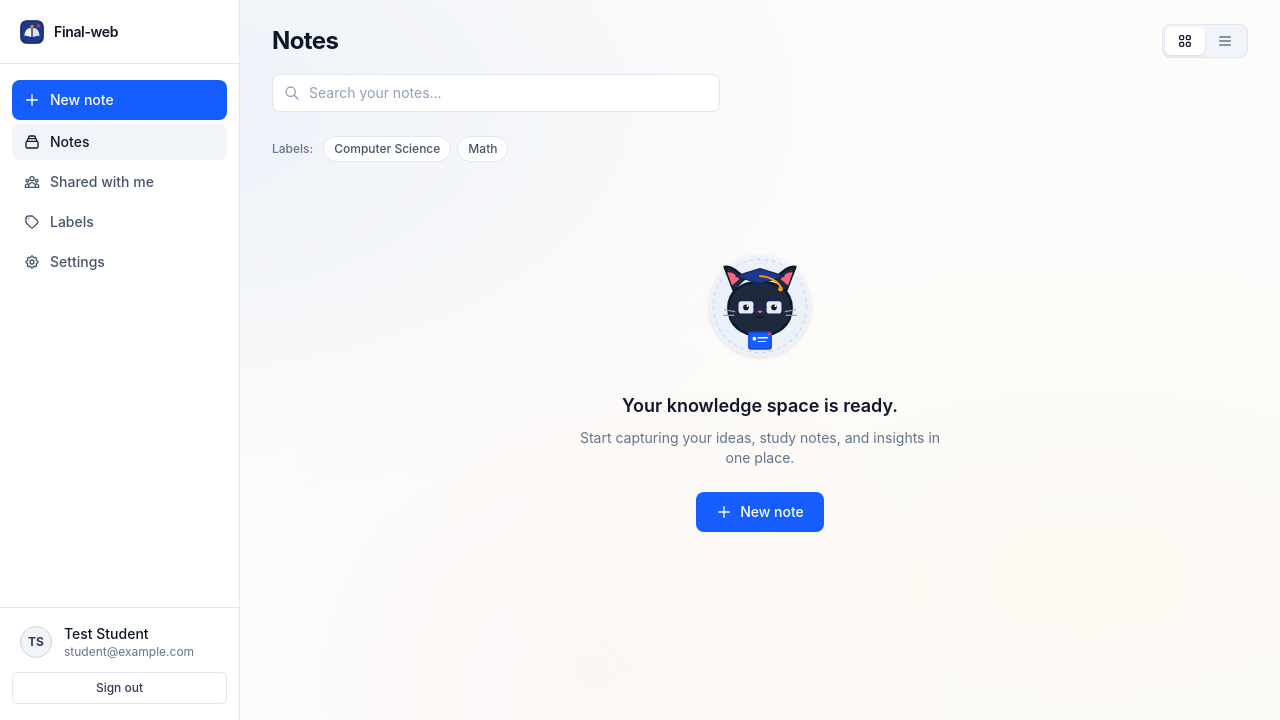
Scenario: LABEL-01 Label CRUD Management › displays validation error when creating label fails (e.g. duplicate name 422)
Expected: the element with test id "label-filters-bar" is shown, 272,136 -> 508,162
Step 1. Click the button with test id "labels-nav-link" → (120, 222), box 12,204 -> 227,240
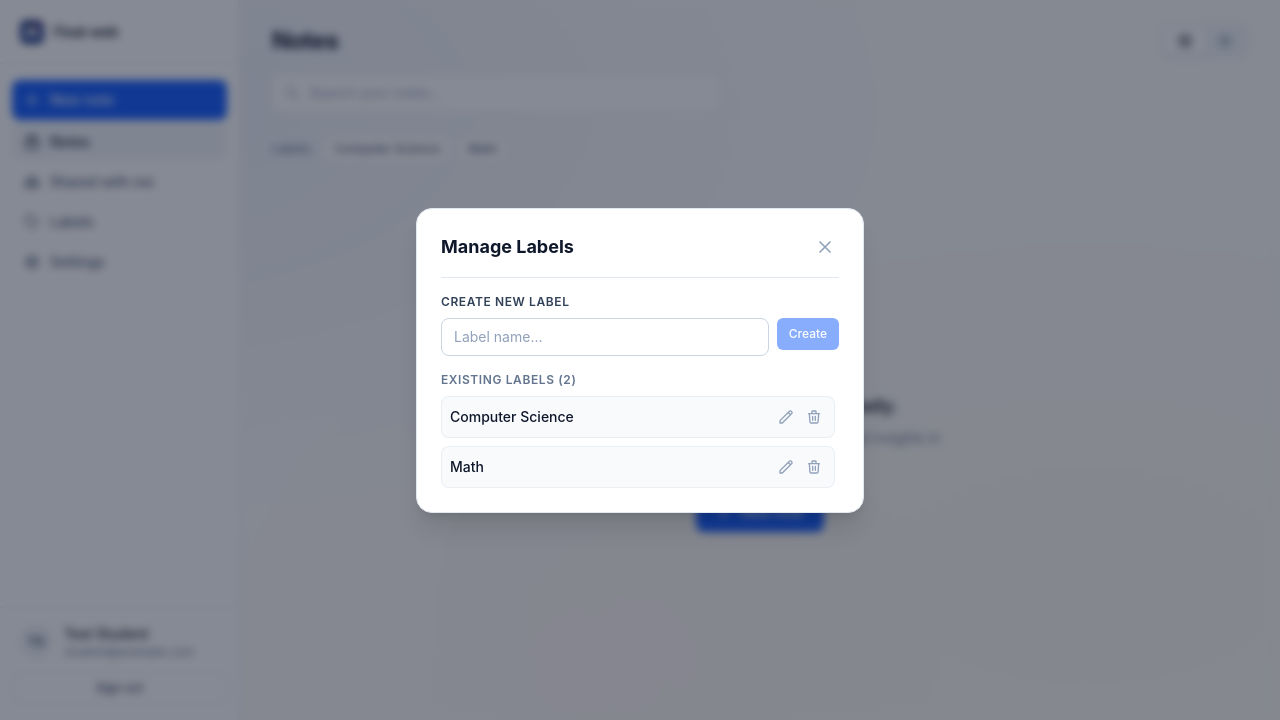
Step 2. Type "Math" into the field with test id "new-label-name-input" → (605, 336), box 441,318 -> 769,356
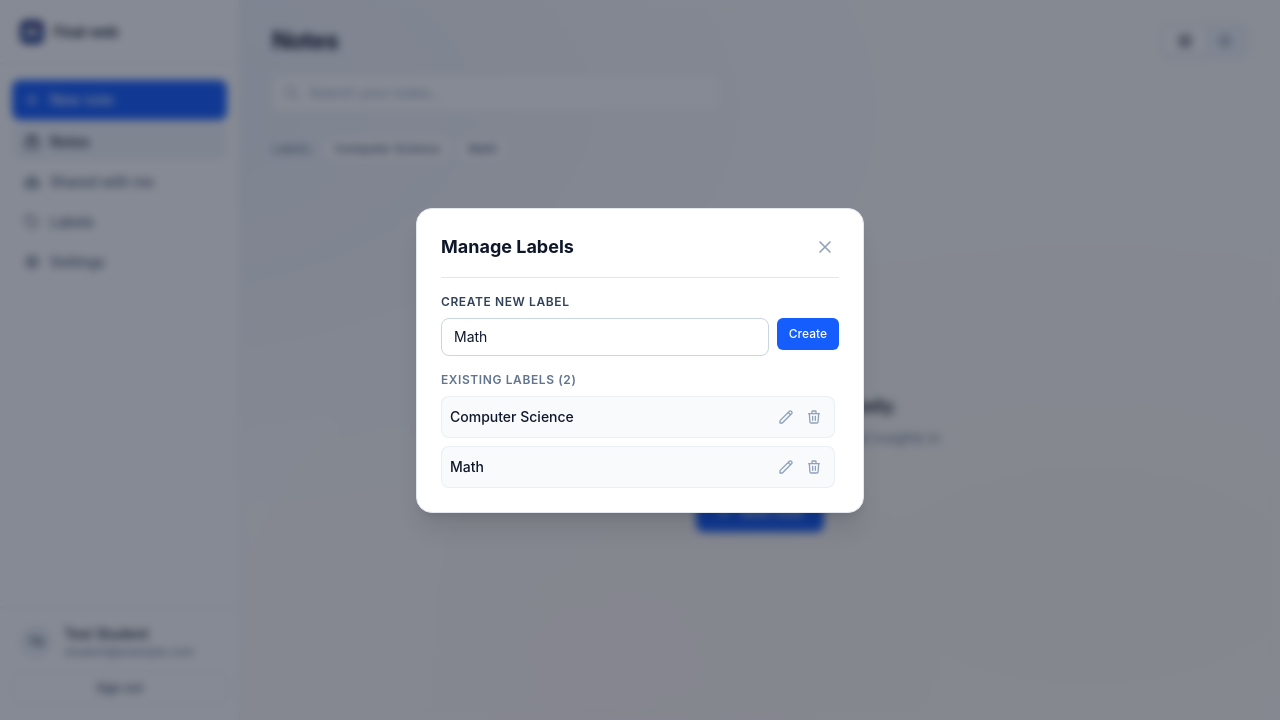
Step 3. Submit the form with test id "create-label-form", box 441,294 -> 839,356
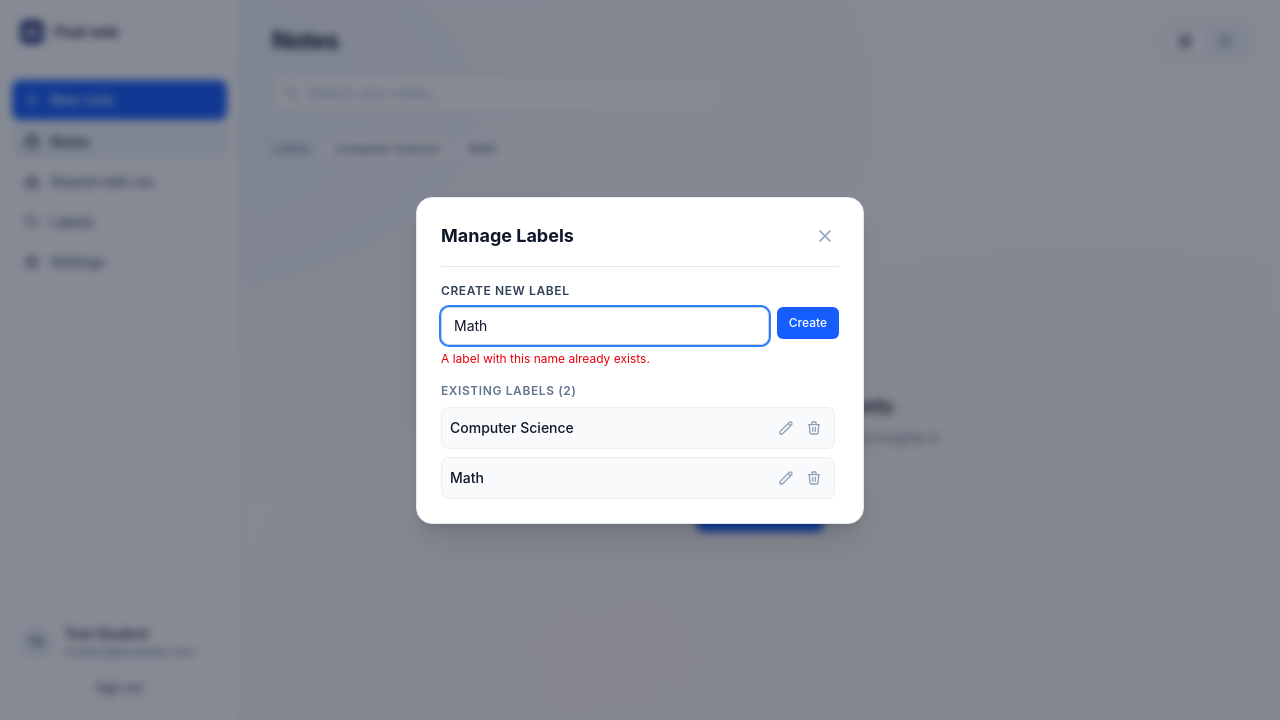
Expected: the text with test id "create-label-error" reads "A label with this name already exists.", 441,350 -> 650,366
